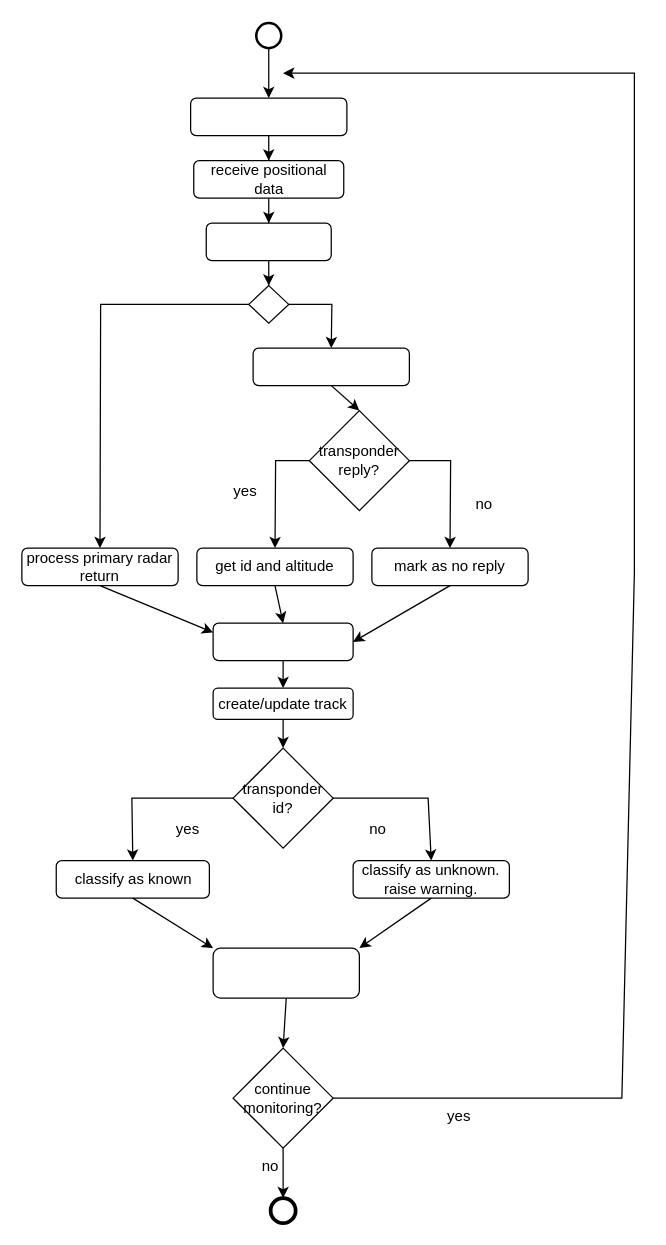
The diagram is 666 pixels wide and 1245 high, and some of its shapes have lost their labels. Here are the shapes that lost their labels. From the top down, the centre of each, then its label:
the point at 268,116: Send pulse
the point at 268,241: interrogate target
the point at 330,366: quiry secondary radar for transponder
the point at 282,641: process detection data
the point at 285,972: update display
